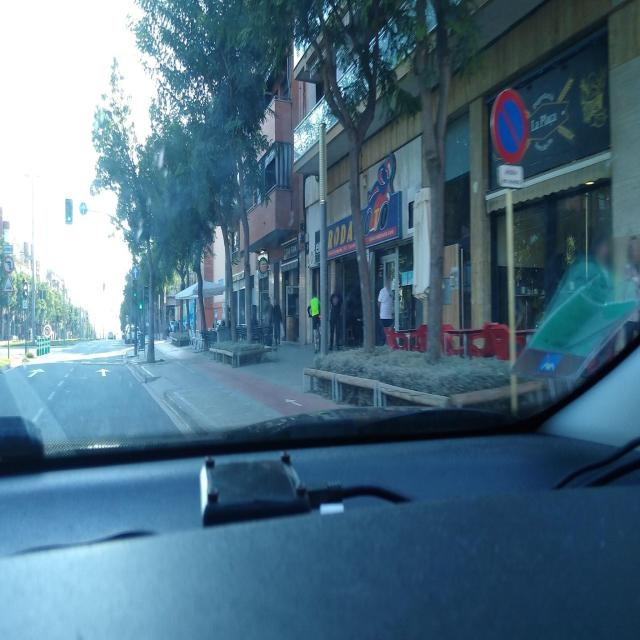forb_stopping: (489, 88, 530, 161)
